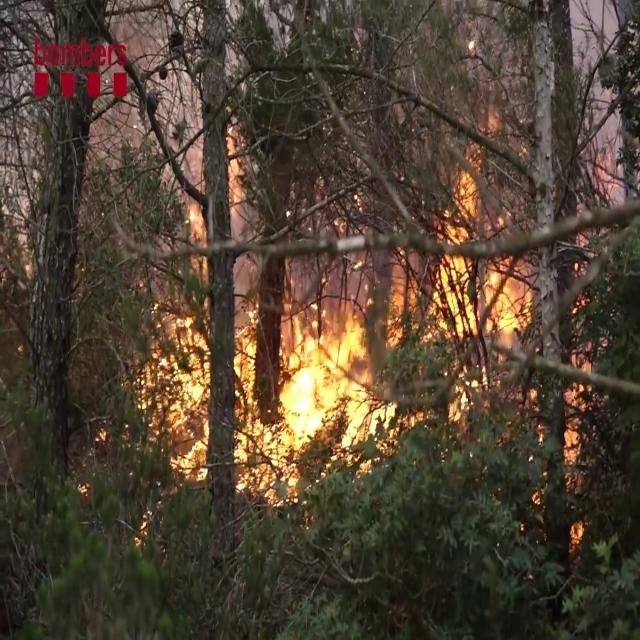Fire: (239, 284, 401, 492), (130, 196, 214, 484), (421, 142, 534, 352)
